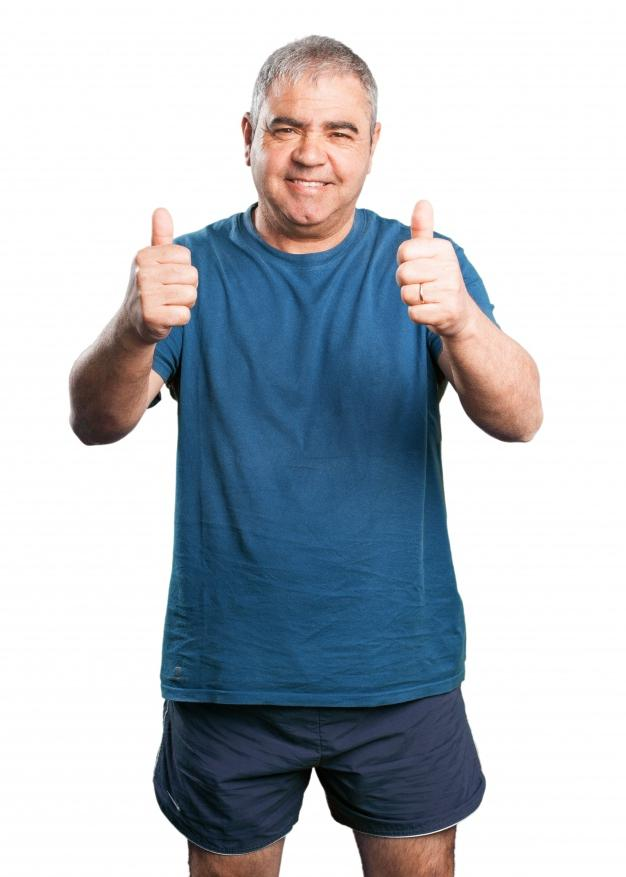thumbsup: (395, 196, 463, 327), (133, 206, 200, 326)
